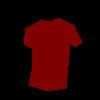abbigliamento_uomo: (23, 17, 82, 91)
